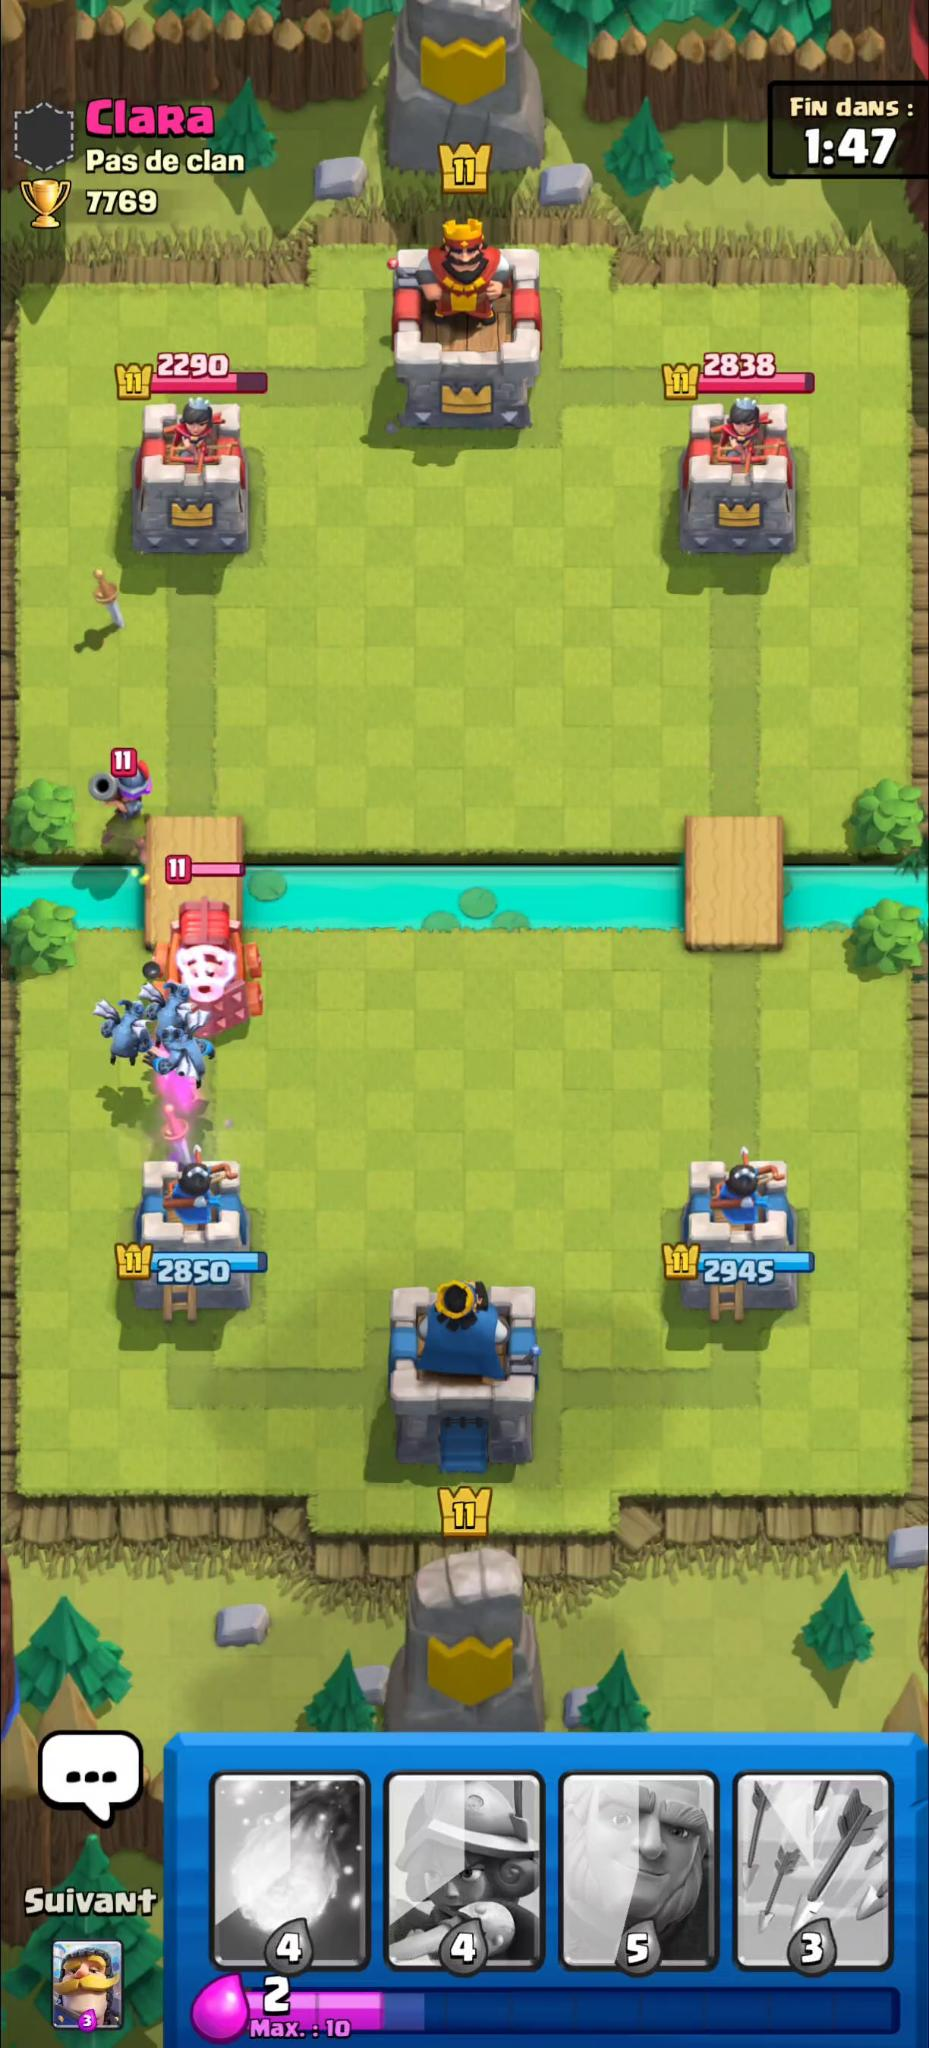gargouille: (146, 1027, 218, 1089), (93, 998, 154, 1070), (142, 981, 195, 1042)
mousquetaire: (91, 765, 158, 820)
zappy: (157, 895, 265, 1038)
